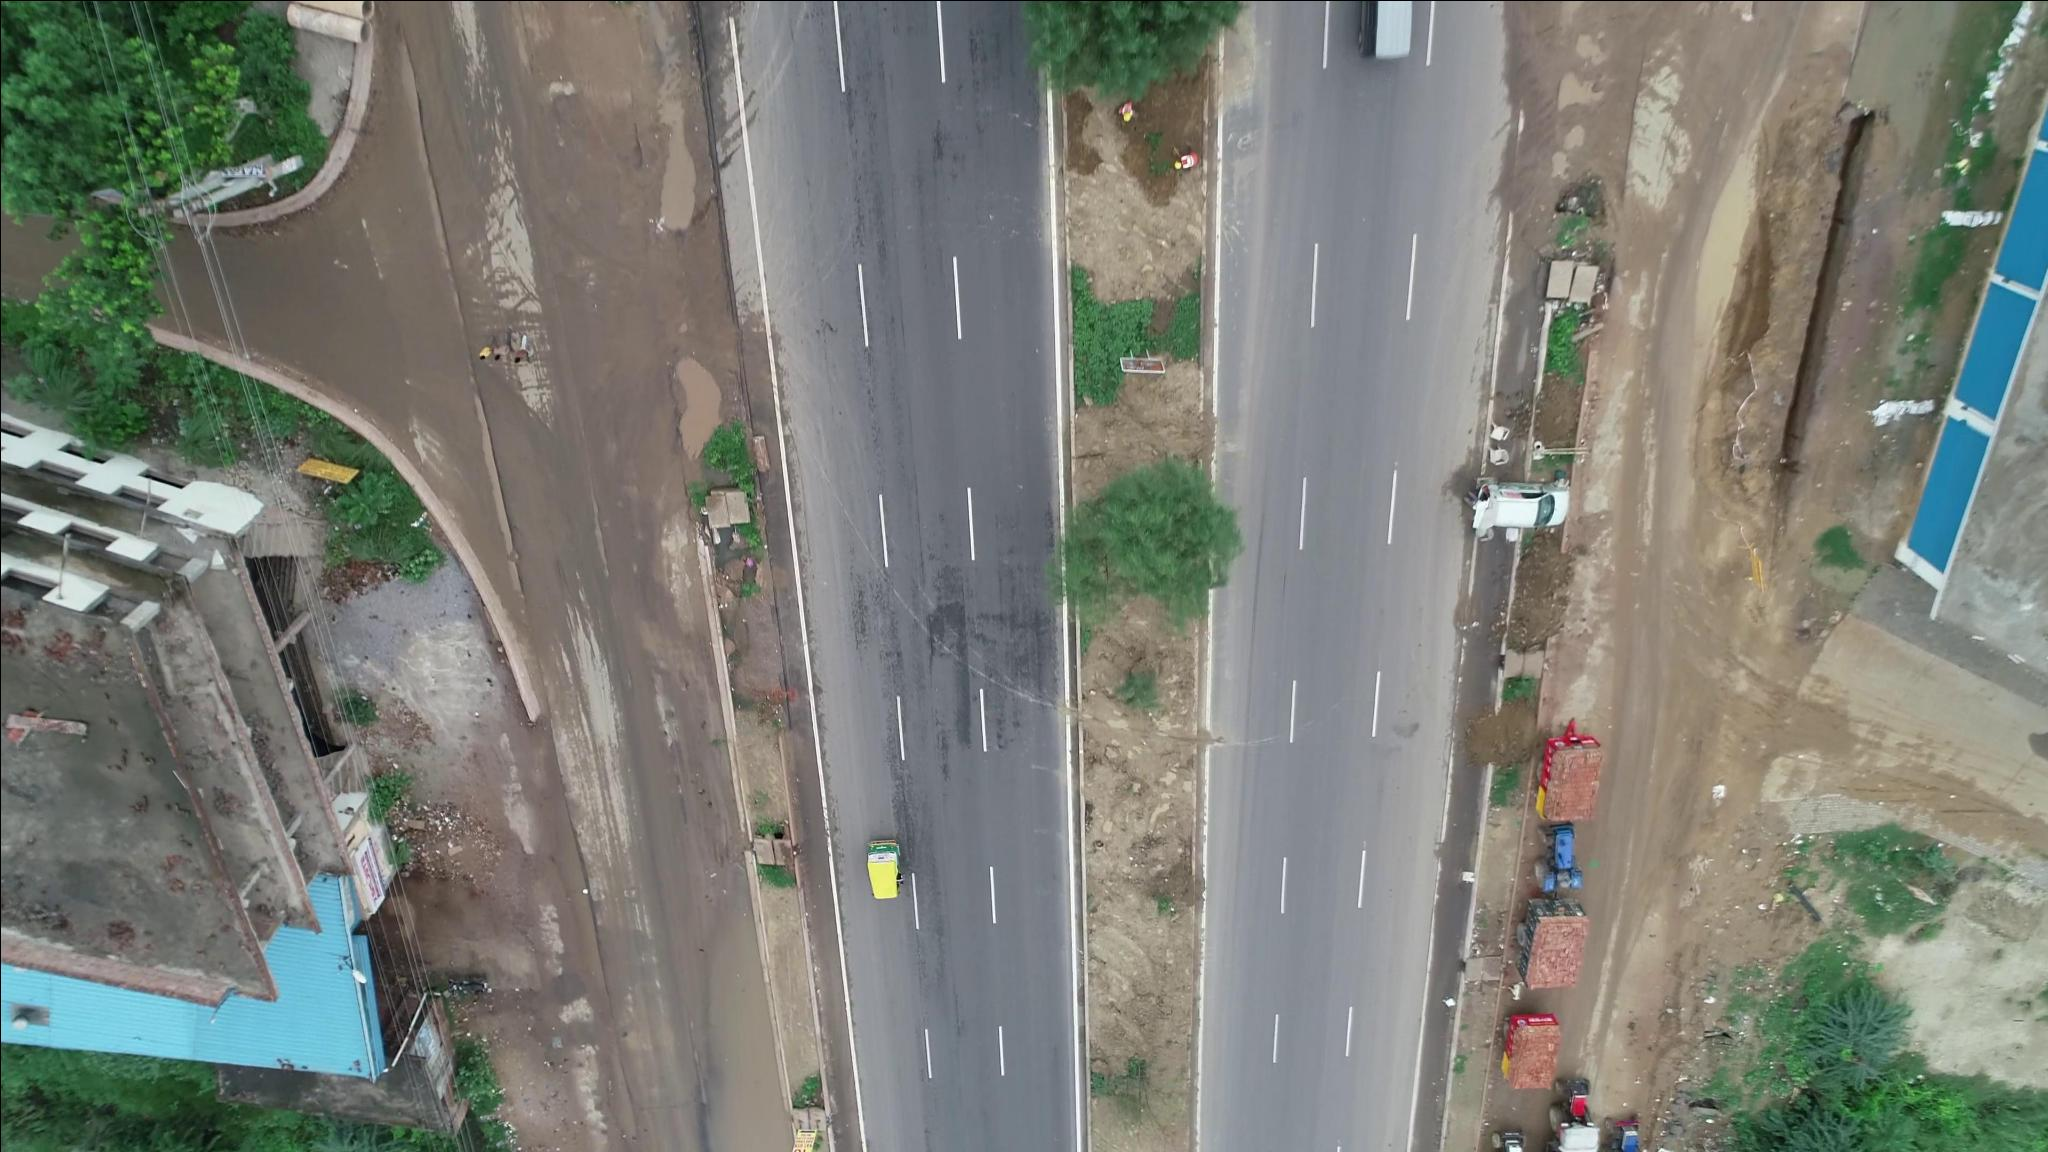Muddy_road: (1611, 523, 1716, 857), (1679, 187, 1788, 470)
Potholes: (658, 350, 733, 464)
Ravelling: (913, 596, 1052, 740), (845, 580, 923, 836)
